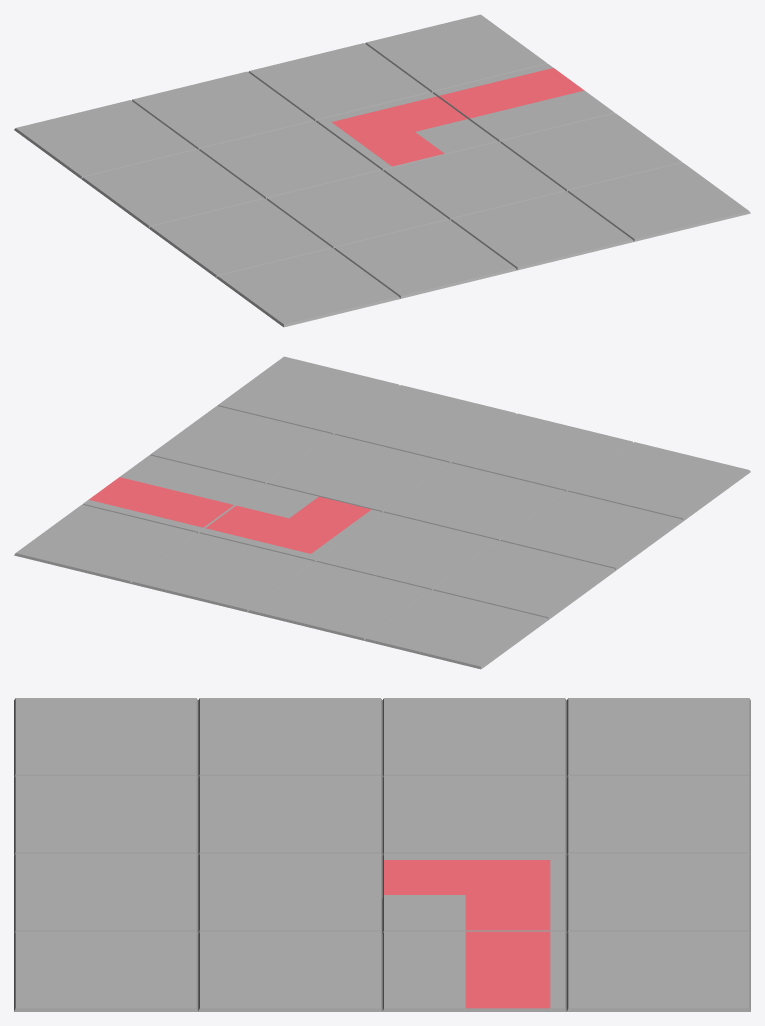
The model's file is Floor.fbx.
3 views of the same model, one above another, from view 1: azimuth 30°, elevation 25°; view 2: azimuth 150°, elevation 25°; view 3: azimuth 270°, elevation 25° (orthographic). The views are drawn at different scales.
Parts seen in each view (by area): view 1: Floor; view 2: Floor; view 3: Floor.
Boxes of the visible parts, x1=… form: Floor: x1=14, y1=14, x2=750, y2=327; Floor: x1=14, y1=356, x2=750, y2=669; Floor: x1=14, y1=698, x2=750, y2=1011.
Size of the model in its own units: 2200 by 10 by 2200.
